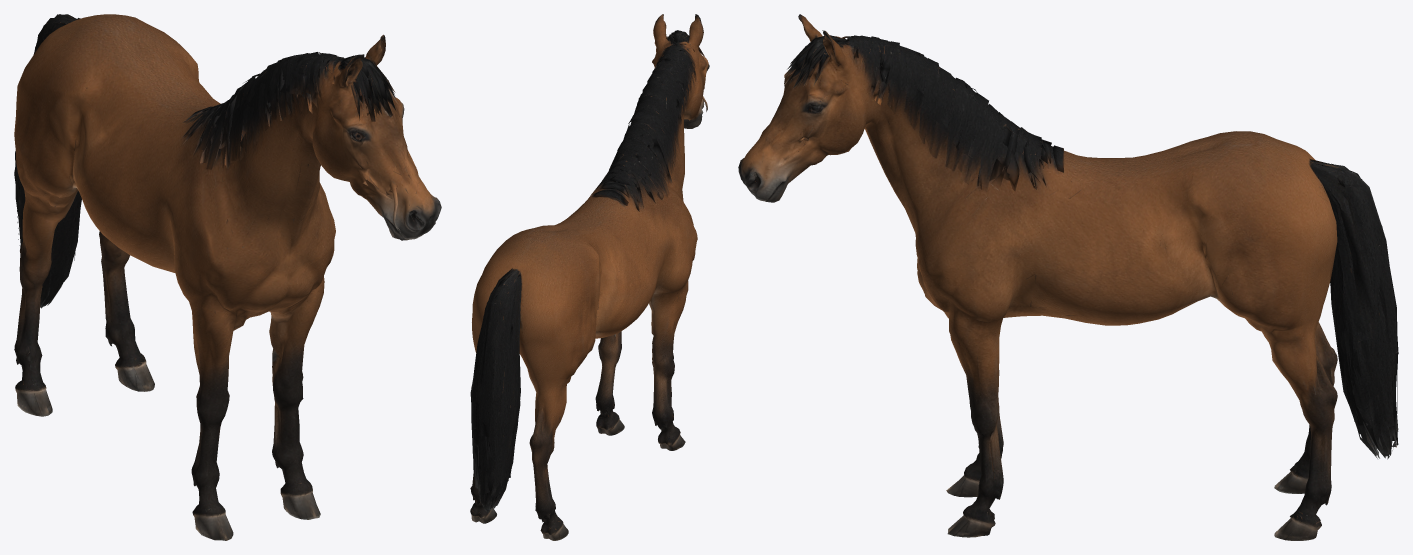
The model's file is mount_legacy_bay_horse_0.glb.
The picture shows the model from 3 angles, left to right: view 1: azimuth 30°, elevation 25°; view 2: azimuth 150°, elevation 25°; view 3: azimuth 270°, elevation 25°; orthographic projection. The views are drawn at different scales.
Visible parts, largest first — view 1: MeshyGear_mount_legacy_bay_horse; view 2: MeshyGear_mount_legacy_bay_horse; view 3: MeshyGear_mount_legacy_bay_horse.
Part boxes in pixels (box(x1,y1,x2,y2)): MeshyGear_mount_legacy_bay_horse: box(14, 14, 441, 540); MeshyGear_mount_legacy_bay_horse: box(470, 14, 709, 540); MeshyGear_mount_legacy_bay_horse: box(738, 14, 1398, 540).
Size of what is drawn, in the model's own units: 0.5108 by 1.7 by 2.02.
Materials: 1 (1 with a texture image).
